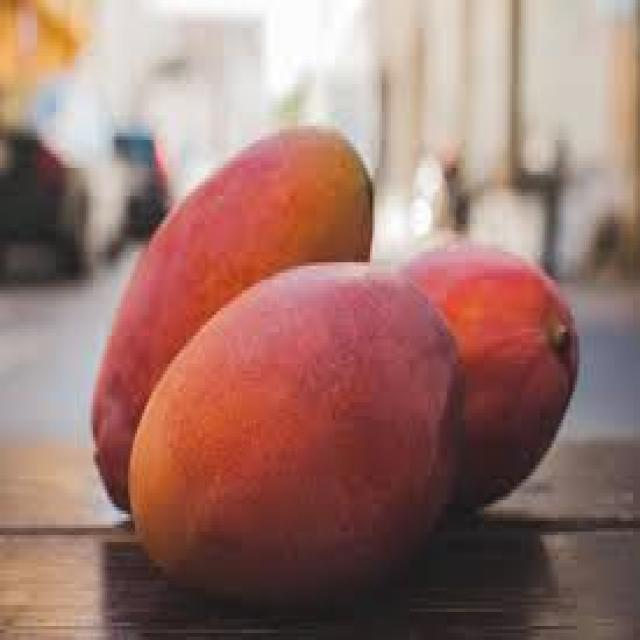mango: (126, 266, 465, 605), (89, 124, 372, 522), (401, 243, 580, 510)
